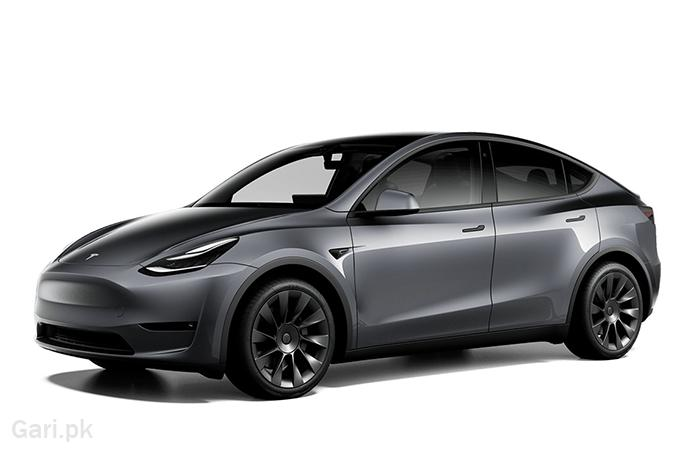Hatchback: (38, 101, 666, 394)
